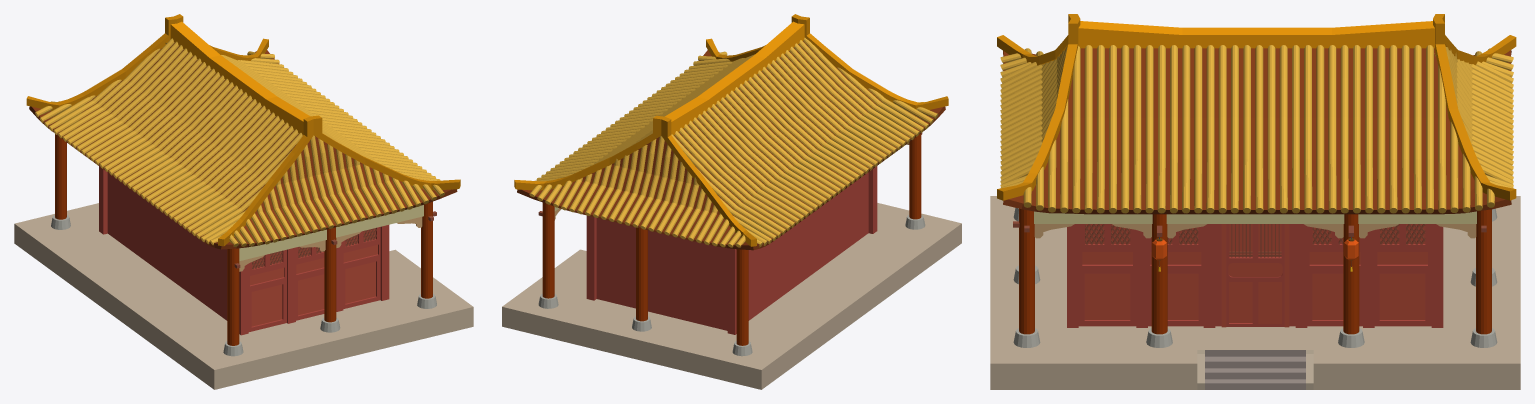
Rendered from Chinese exterior.fbx.
3 renders of one model, left to right at view 1: azimuth 30°, elevation 25°; view 2: azimuth 150°, elevation 25°; view 3: azimuth 270°, elevation 25°, orthographic. The views are drawn at different scales.
Visible parts, largest first — view 1: roof_1, base, roof_2, wall_1, wall_2, column_2, roof_3, column_1, roof_4, decoration_1, wall_3, decoration_2; view 2: roof_1, base, wall_1, roof_2, column_2, roof_3, roof_4, column_1; view 3: roof_1, base, roof_2, wall_2, column_2, door, roof_4, column_1, roof_3, decoration_1, wall_3, decoration_2 (+1 smaller).
Boxes of the visible parts, box(x1,y1,x2,y2) form: roof_1: box(35, 38, 444, 246); base: box(14, 203, 473, 389); roof_2: box(29, 42, 457, 249); wall_1: box(107, 173, 227, 320); wall_2: box(248, 227, 380, 331); column_2: box(51, 134, 436, 356); roof_3: box(26, 14, 460, 246); column_1: box(99, 166, 389, 335); roof_4: box(170, 21, 309, 135); decoration_1: box(239, 205, 423, 260); wall_3: box(252, 228, 376, 269); decoration_2: box(239, 216, 422, 271); roof_1: box(529, 37, 938, 247); base: box(502, 203, 961, 389); wall_1: box(596, 172, 868, 330); roof_2: box(517, 41, 945, 250); column_2: box(538, 133, 925, 356); roof_3: box(514, 14, 948, 246); roof_4: box(665, 21, 804, 135); column_1: box(586, 166, 877, 334); roof_1: box(1000, 45, 1513, 213); base: box(990, 196, 1520, 389); roof_2: box(1003, 48, 1511, 214); wall_2: box(1078, 224, 1431, 326); column_2: box(1013, 208, 1497, 347); door: box(1215, 224, 1295, 327); roof_4: box(1078, 21, 1434, 48); column_1: box(1067, 224, 1443, 327); roof_3: box(997, 14, 1516, 200); decoration_1: box(1034, 211, 1476, 223); wall_3: box(1085, 224, 1425, 244); decoration_2: box(1034, 224, 1476, 238).
Bounding box in the file's own units: 1495 × 1196 × 1999.
